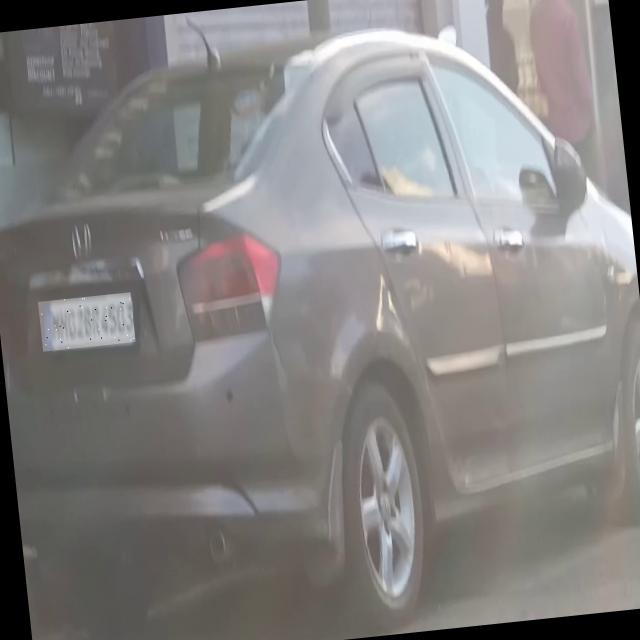Plate: (39, 293, 137, 352)
